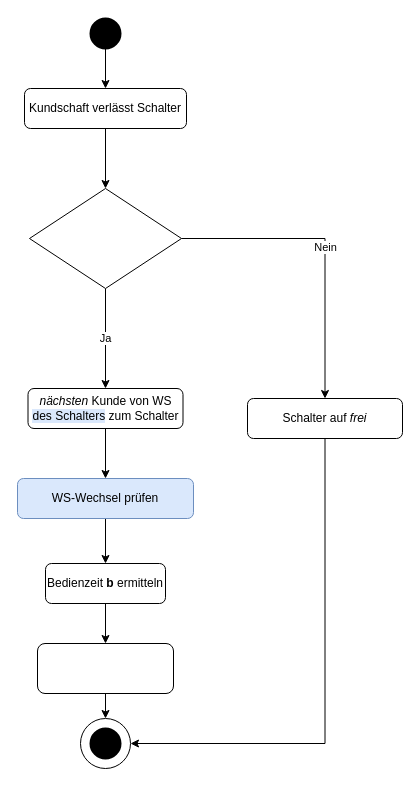
This 420x786 diagram has some shape labels left out. Each missing label, with the centre of its shape:
BedienEndeEvent mit Zeitpunkt t+b erzeugen: pixel 105 668
WS des Schalters leer: pixel 105 238
